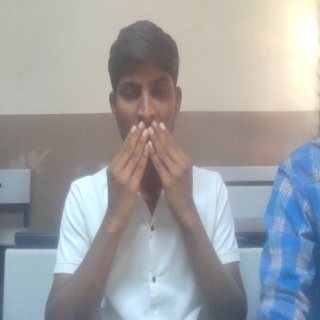Thank You: (106, 120, 201, 235)
